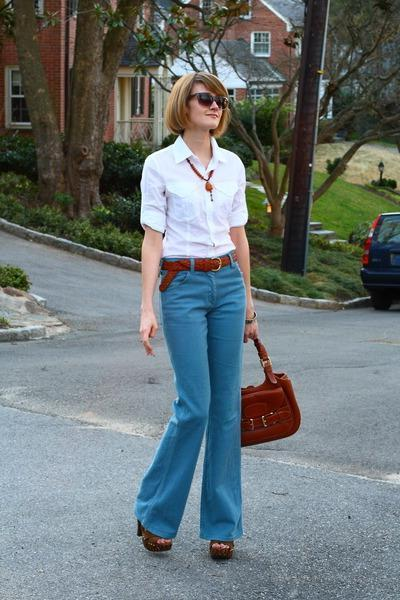long sleeve shirt: (140, 139, 254, 264)
trousers: (134, 253, 246, 543)
